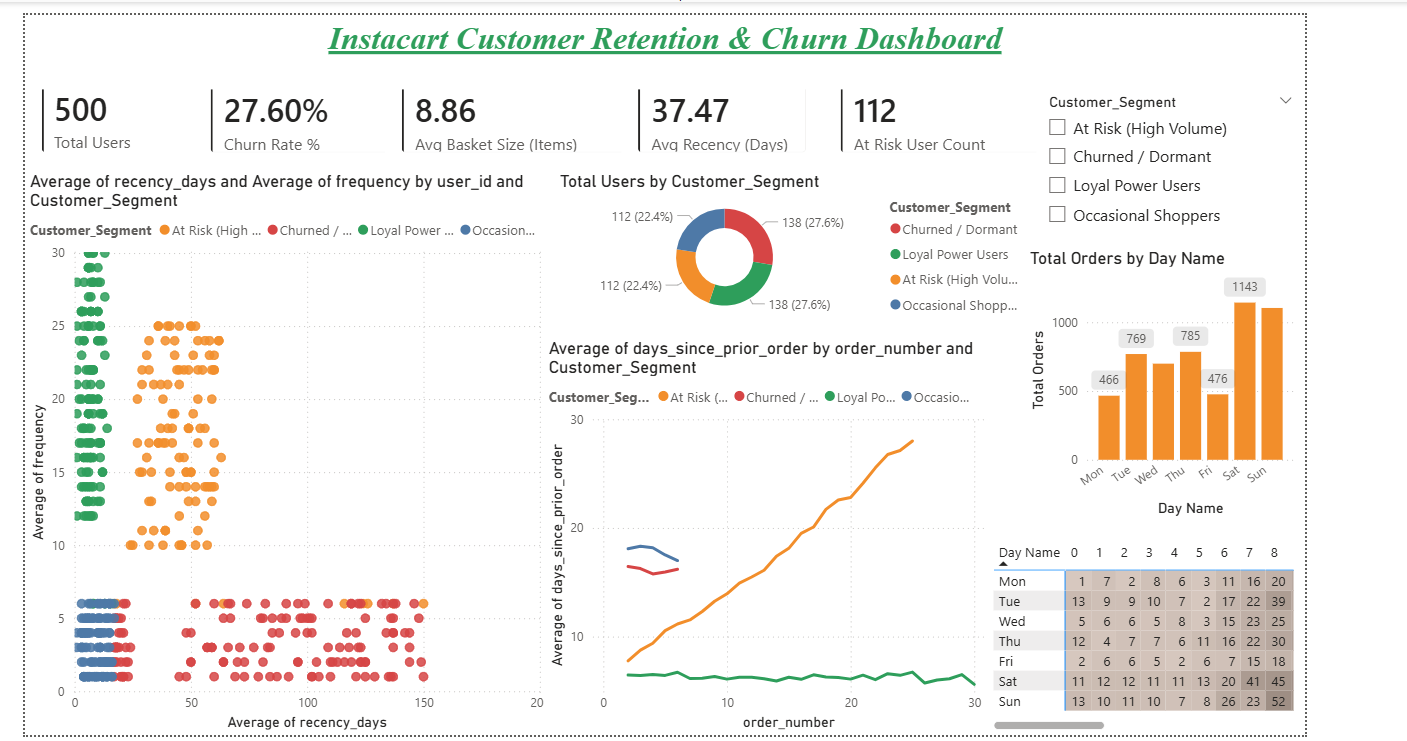

What the dashboard file says about the page in this screenshot:
{"tool":"powerbi","page":{"name":"Page 1","canvas":[1280,720],"ordinal":0},"visuals":[{"type":"cardVisual","fields":{"Data":["orders.Total Users"]},"box":[0,54.3,280,101.4],"z":0},{"type":"cardVisual","fields":{"Data":["user_segments.Churn Rate %"]},"box":[168.6,54.3,221.4,101.4],"z":1000},{"type":"cardVisual","fields":{"Data":["user_segments.At Risk User Count"]},"box":[798.6,54.3,250,101.4],"z":2000},{"type":"cardVisual","fields":{"Data":["orders.Avg Basket Size (Items)"]},"box":[360,54.3,280,101.4],"z":3000},{"type":"cardVisual","fields":{"Data":["user_segments.Avg Recency (Days)"]},"box":[595.7,54.3,202.9,101.4],"z":4000},{"type":"donutChart","fields":{"Category":["user_segments.Customer_Segment"],"Y":["orders.Total Users"]},"box":[530,155.7,481.4,152.9],"z":5000},{"type":"scatterChart","fields":{"X":["user_segments.recency_days"],"Y":["user_segments.frequency"],"Series":["user_segments.Customer_Segment"],"Category":["user_segments.user_id"]},"box":[0,156.2,530,563.8],"z":6000},{"type":"slicer","fields":{"Values":["user_segments.Customer_Segment"]},"box":[1011.4,74.3,268.6,158.6],"z":7000},{"type":"pivotTable","fields":{"Rows":["orders.Day Name"],"Columns":["orders.order_hour_of_day"],"Values":["user_segments.Total Orders"]},"box":[964.3,521.4,310,198.6],"z":8000},{"type":"lineChart","fields":{"Category":["orders.order_number"],"Y":["Avg(orders.days_since_prior_order)"],"Series":["user_segments.Customer_Segment"]},"box":[518.6,322.9,445.7,397.1],"z":9000},{"type":"textbox","box":[0,0,1280,74.3],"z":10000},{"type":"clusteredColumnChart","fields":{"Category":["orders.Day Name"],"Y":["user_segments.Total Orders"]},"box":[1000,232.9,274.3,274.3],"z":11000}]}

Visuals, with their boxes on the page's 1280x720 design canvas (x1, y1, x2, y2). These are canvas units, not pixel positions in the 1407x741 screenshot, which may show the page scaled, cropped or inside an application window:
cardVisual - orders.Total Users: x1=0, y1=54, x2=280, y2=156
cardVisual - user_segments.Churn Rate %: x1=169, y1=54, x2=390, y2=156
cardVisual - user_segments.At Risk User Count: x1=799, y1=54, x2=1049, y2=156
cardVisual - orders.Avg Basket Size (Items): x1=360, y1=54, x2=640, y2=156
cardVisual - user_segments.Avg Recency (Days): x1=596, y1=54, x2=799, y2=156
donutChart - user_segments.Customer_Segment x orders.Total Users: x1=530, y1=156, x2=1011, y2=309
scatterChart - user_segments.recency_days x user_segments.frequency: x1=0, y1=156, x2=530, y2=720
slicer - user_segments.Customer_Segment: x1=1011, y1=74, x2=1280, y2=233
pivotTable - orders.Day Name x orders.order_hour_of_day: x1=964, y1=521, x2=1274, y2=720
lineChart - orders.order_number x Avg(orders.days_since_prior_order): x1=519, y1=323, x2=964, y2=720
textbox: x1=0, y1=0, x2=1280, y2=74
clusteredColumnChart - orders.Day Name x user_segments.Total Orders: x1=1000, y1=233, x2=1274, y2=507
